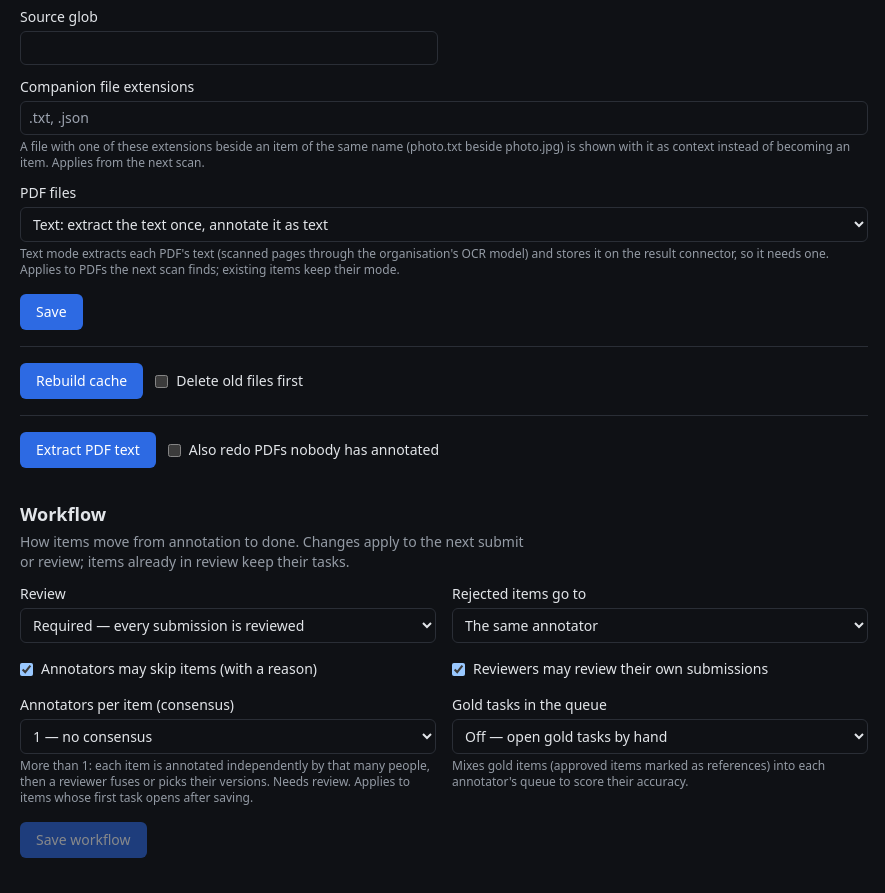
Test: ProjectSettingsPage › queues PDF text extraction in a text-mode project
The width and height of the screenshot is (885, 893).
(page scrolled)
Click the checkbox labelled "Also redo PDFs nobody has annotated" at (174, 450), box [168,444,181,456]
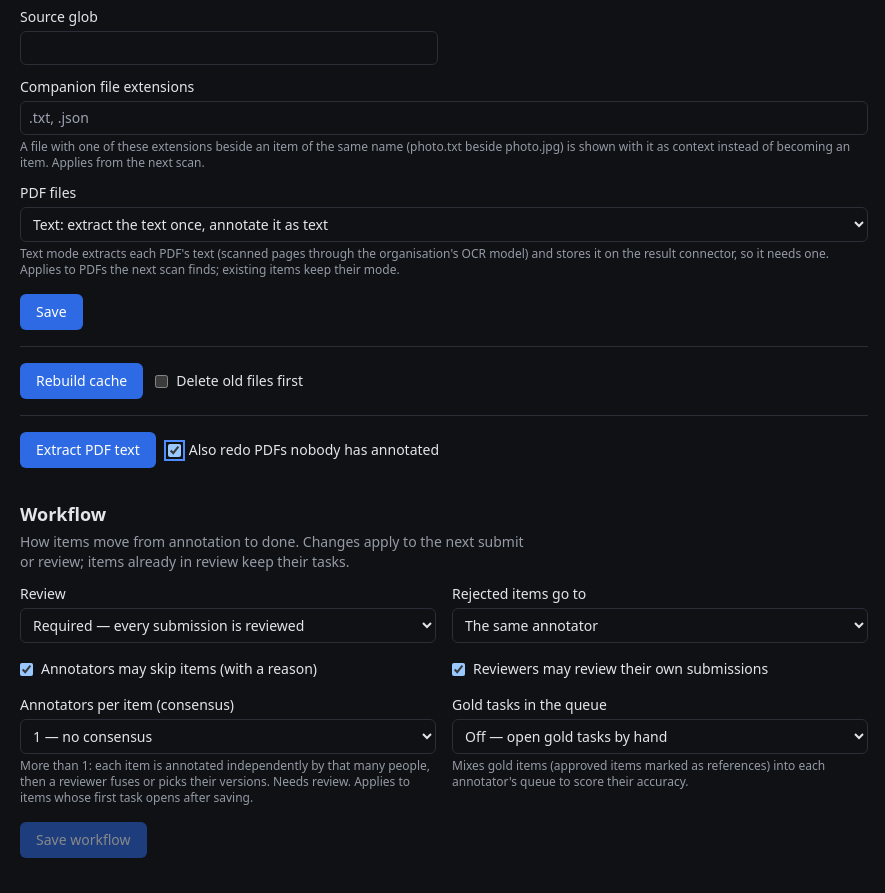
Click the button "Extract PDF text" at (88, 450), box [20,432,156,468]
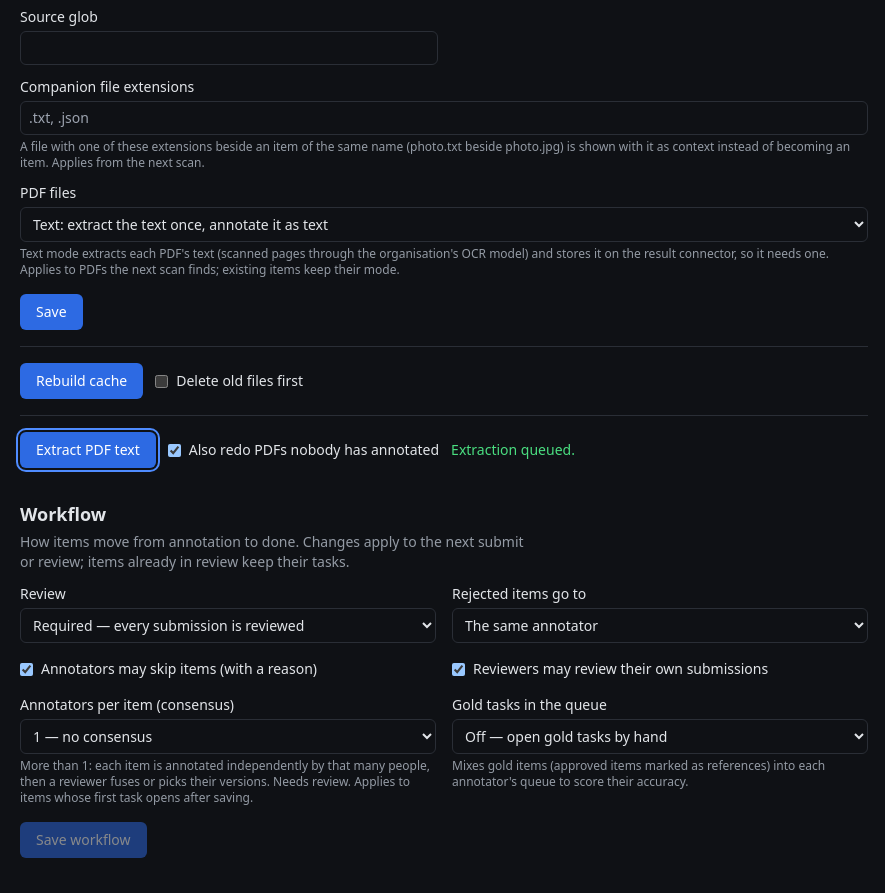
Expected: the text "Extraction queued." is shown, [451,440,575,460]
